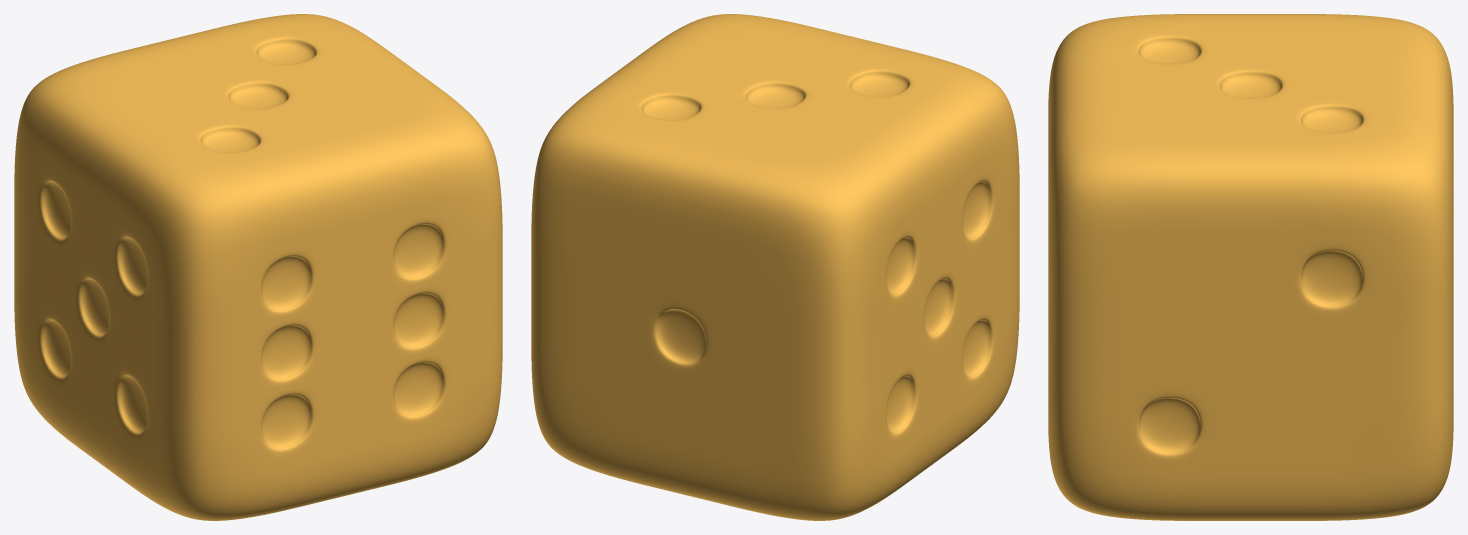
File: dice.glb
3 renders of one model, left to right at view 1: azimuth 30°, elevation 25°; view 2: azimuth 150°, elevation 25°; view 3: azimuth 270°, elevation 25°, orthographic. The views are drawn at different scales.
Visible parts, largest first — view 1: Dice; view 2: Dice; view 3: Dice.
Part boxes in pixels (x1,y1,x2,y2): Dice: (14,14,502,520); Dice: (531,14,1019,520); Dice: (1048,14,1453,520).
Size of the model in its own units: 2 by 2 by 2.
